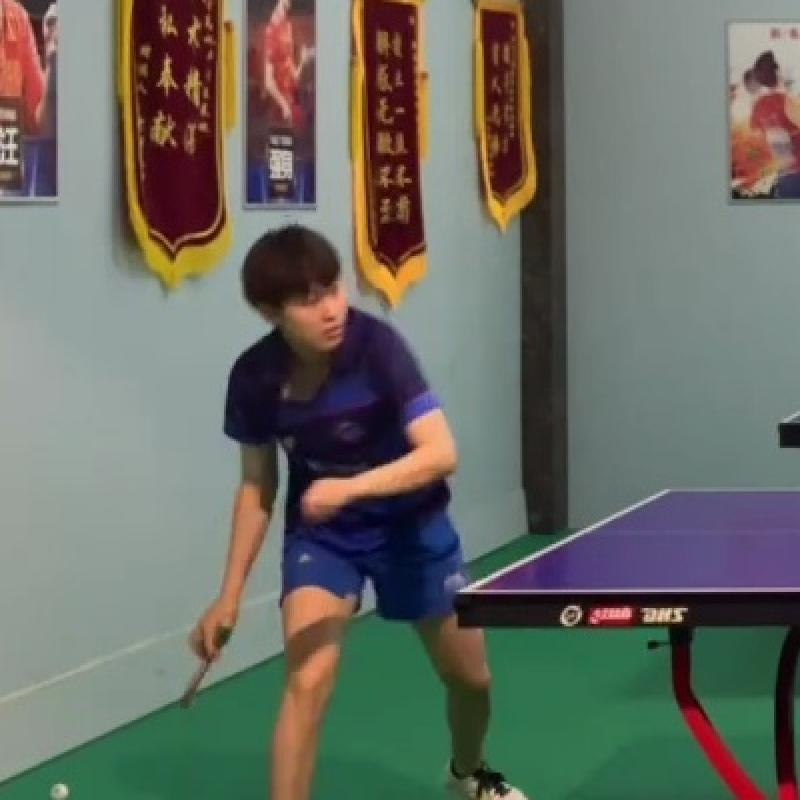bats: (158, 614, 242, 716)
